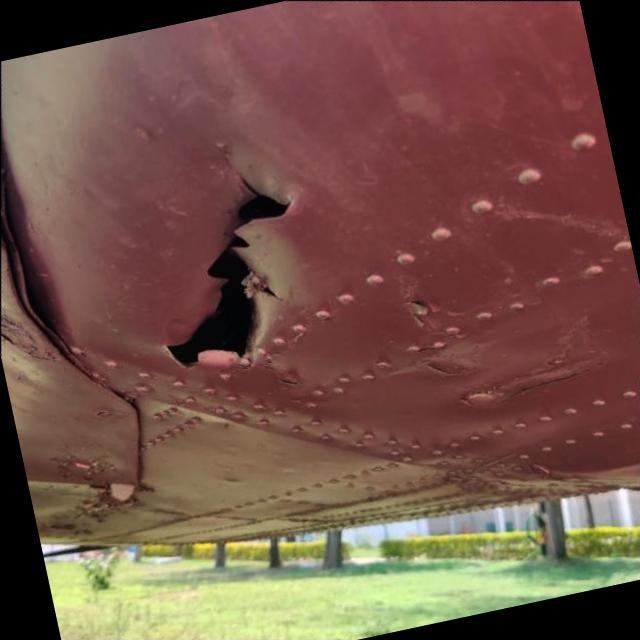dent: (0, 187, 74, 367)
